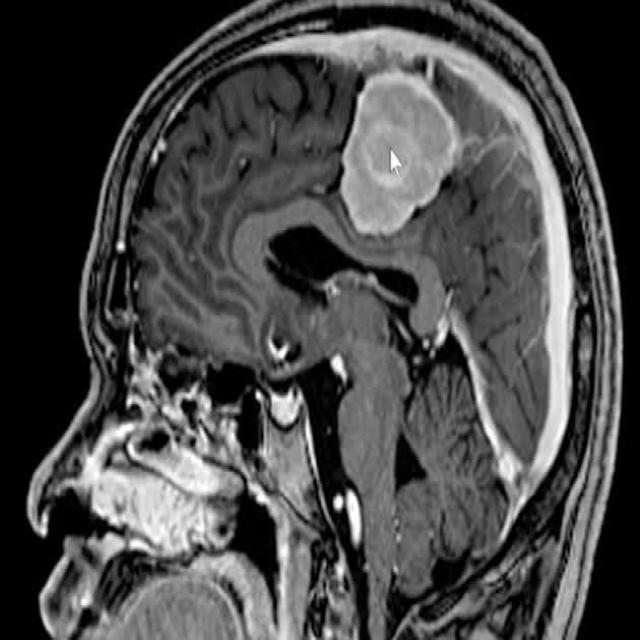Tumor: (341, 71, 459, 235)
